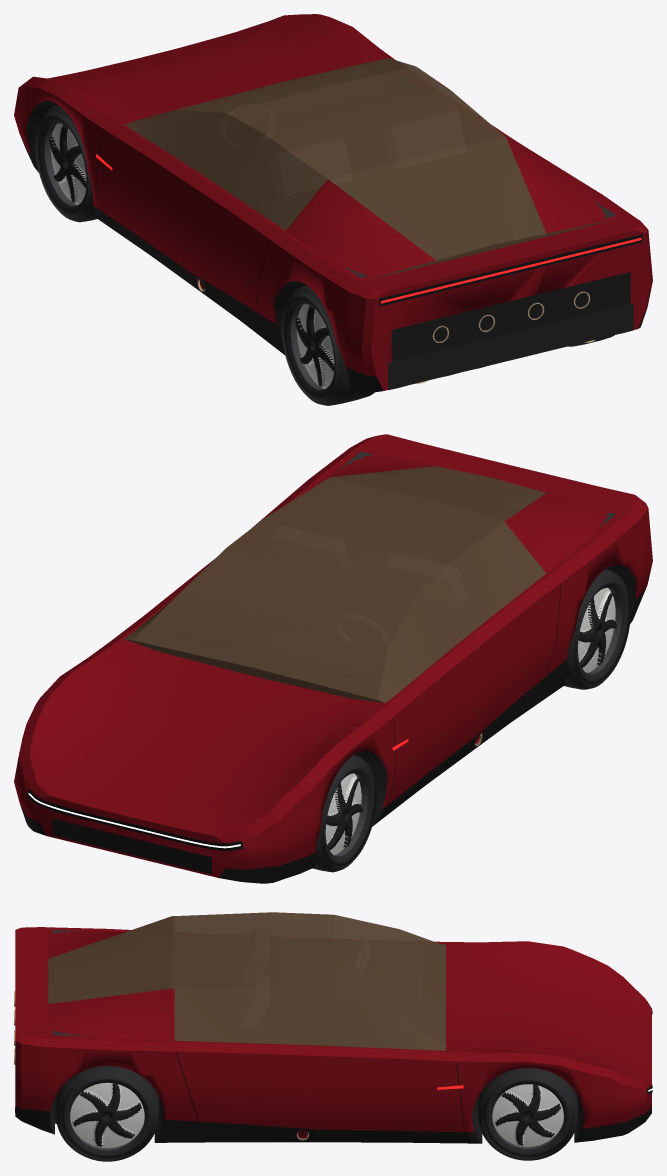
Rendered from roadster.glb.
3 renders of one model, top to bottom at view 1: azimuth 30°, elevation 25°; view 2: azimuth 150°, elevation 25°; view 3: azimuth 270°, elevation 25°, orthographic. The views are drawn at different scales.
Parts seen in each view (by area): view 1: body, glass, wheel_RL, wheel_FL; view 2: body, glass, wheel_RL, wheel_FL; view 3: body, glass, wheel_RR, wheel_FR.
Boxes of the visible parts, x1,y1,x2,y2 form: body: (14,14,652,392); glass: (125,58,613,279); wheel_RL: (281,285,374,405); wheel_FL: (35,105,96,222); body: (14,434,652,883); glass: (124,451,616,702); wheel_RL: (564,569,630,689); wheel_FL: (312,755,376,872); body: (15,927,652,1143); glass: (48,912,445,1050); wheel_RR: (55,1066,159,1161); wheel_FR: (477,1068,578,1160).
Bounding box in the file's own units: 1.96 × 1.16 × 4.29.
